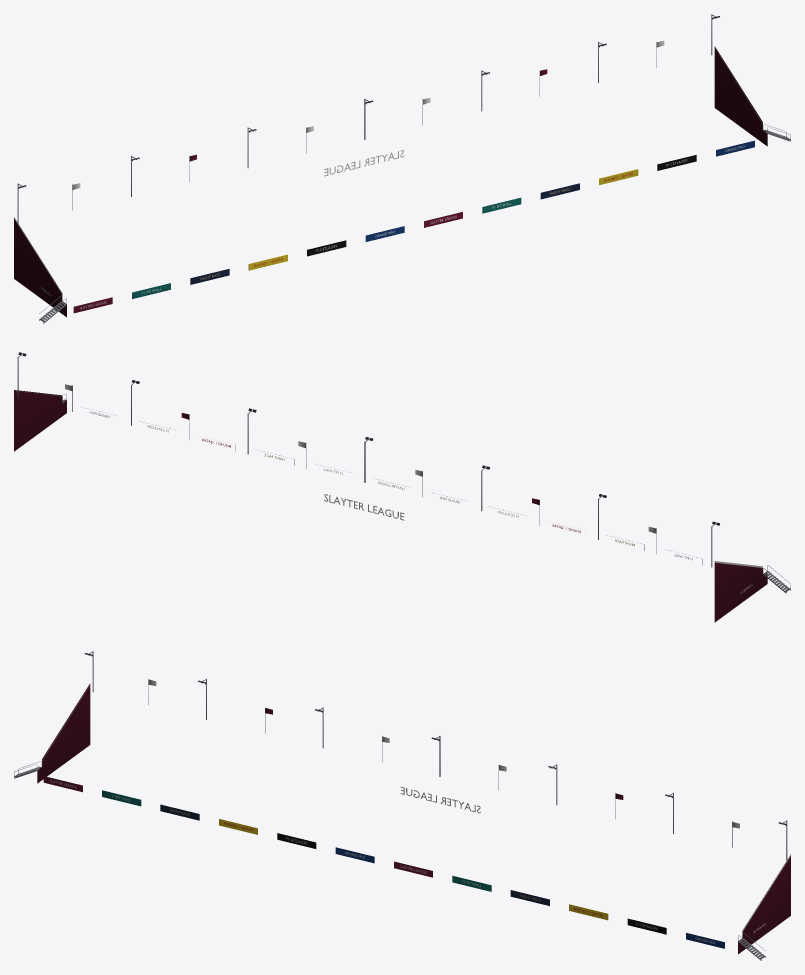
Rendered from stand_T3_shell.glb.
3 renders of one model, top to bottom at view 1: azimuth 30°, elevation 25°; view 2: azimuth 150°, elevation 25°; view 3: azimuth 330°, elevation 25°, orthographic.
Parts seen in each view (by area): view 1: stand_T3_shell; view 2: stand_T3_shell; view 3: stand_T3_shell.
Boxes of the visible parts, <box> form: stand_T3_shell: <box>14,14,790,323</box>; stand_T3_shell: <box>14,352,790,622</box>; stand_T3_shell: <box>14,651,790,960</box>.
Size of the model in its own units: 130 by 16.08 by 16.07.
